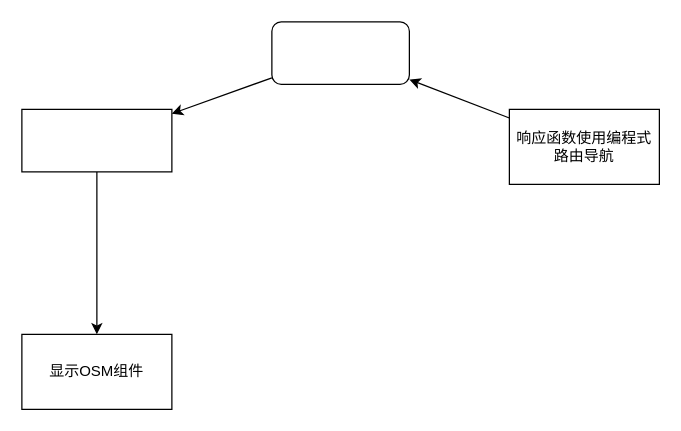
Image size: 681x431. Some labels were removed from this diagram. Here are the shapes that lost their labels. From the top down, the box of each, then its label:
(271, 21, 409, 84): 给单选框绑定勾选事件和响应函数
(21, 108, 172, 172): 勾选单选框
